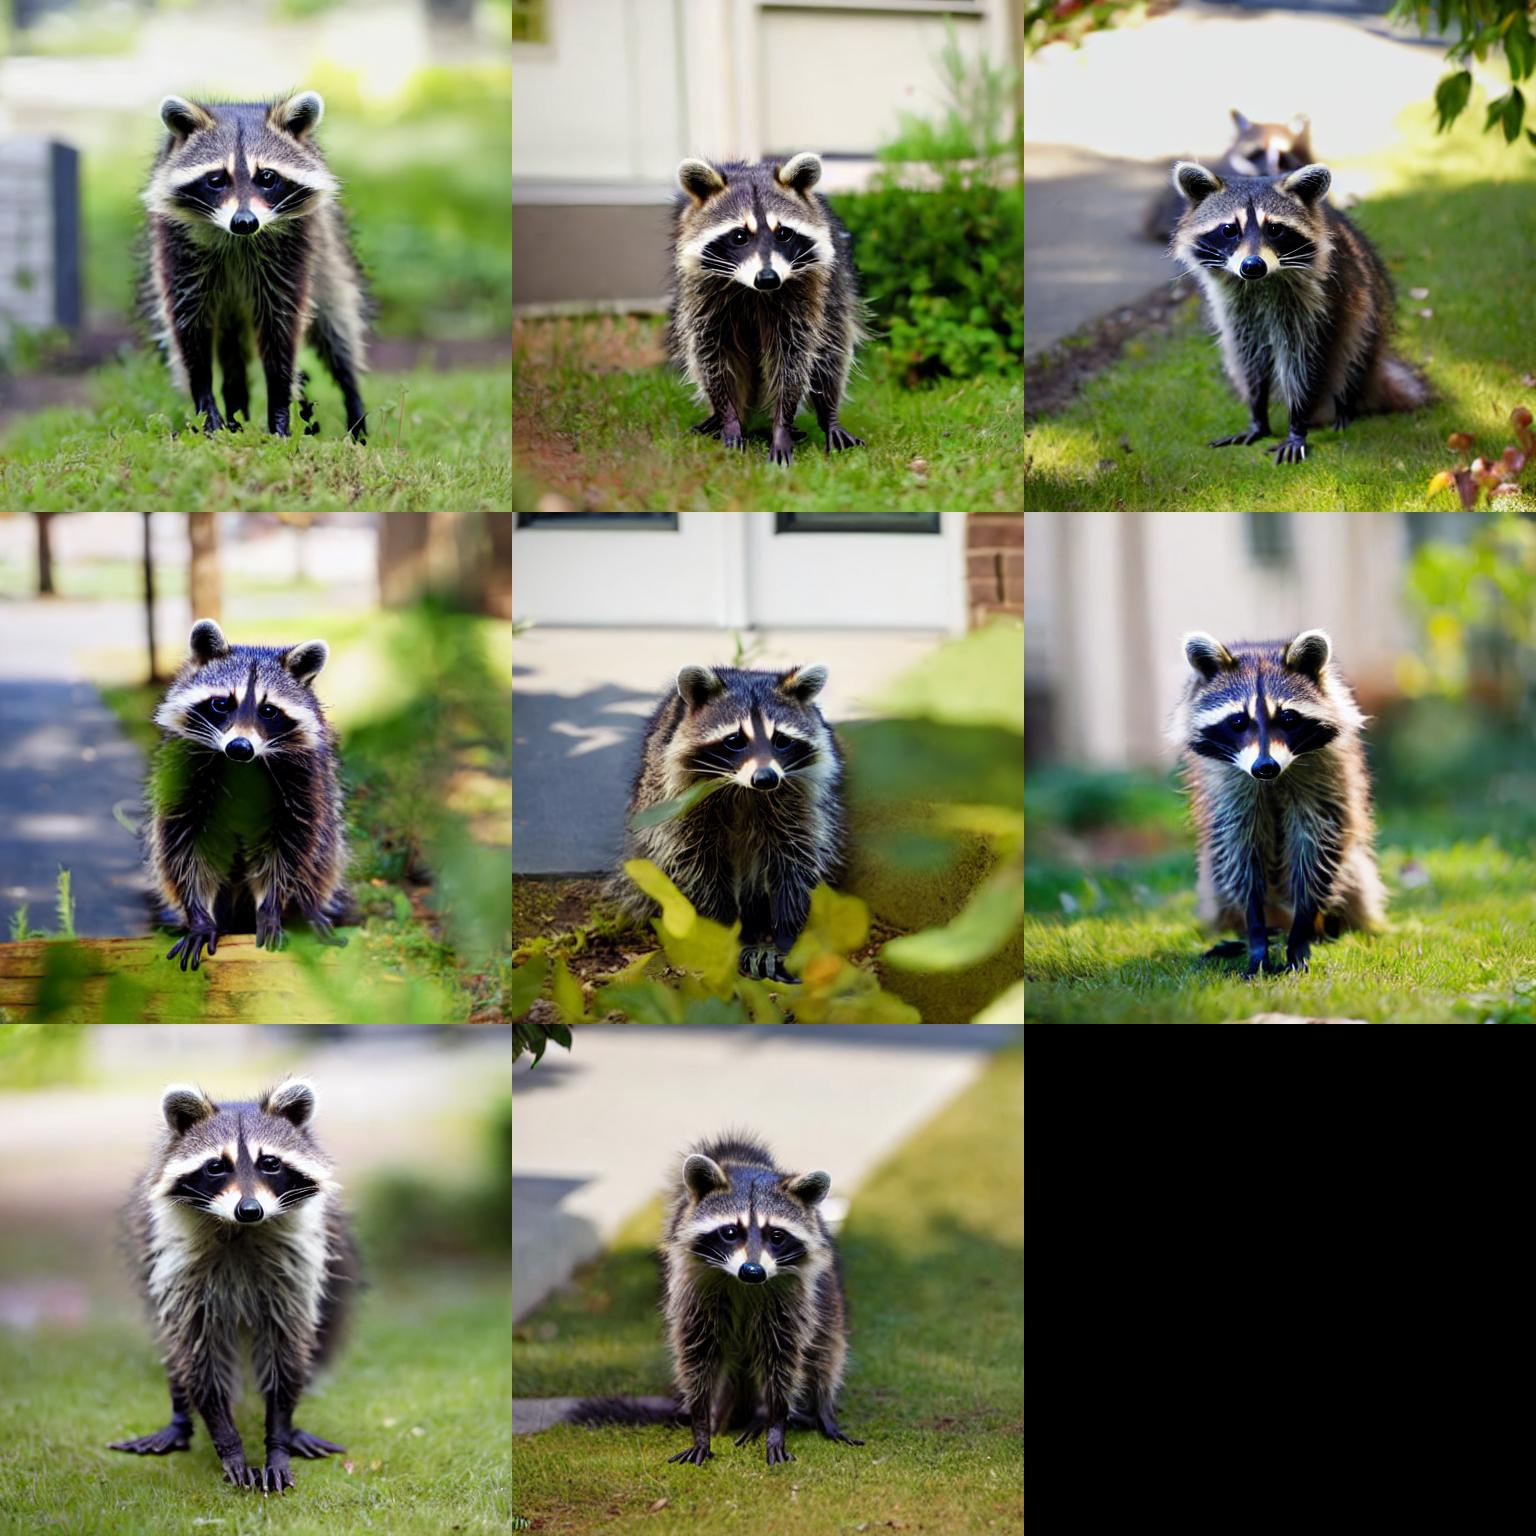raccoon: (122, 77, 381, 426), (134, 1069, 360, 1435), (1166, 617, 1397, 955), (1167, 155, 1435, 430), (134, 609, 361, 928), (625, 650, 851, 954), (654, 135, 878, 432), (651, 1132, 861, 1416)
